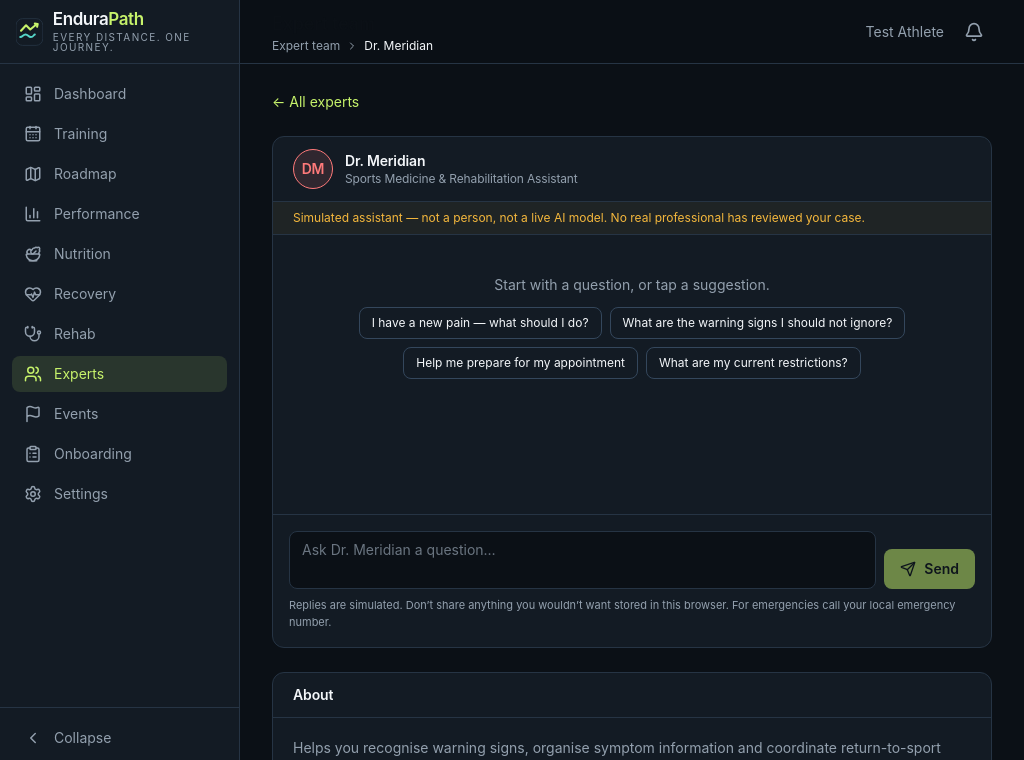
safety workflows › labels every persona reply as simulated and does not clear the athlete to return to sport
Expected: the text "No real professional has reviewed your case" is shown, [607,210,865,225]
Type "Can you clear me to return to running?" into the text box.
click(583, 560); type("Can you clear me to return to running?")  # box [289,531,876,589]
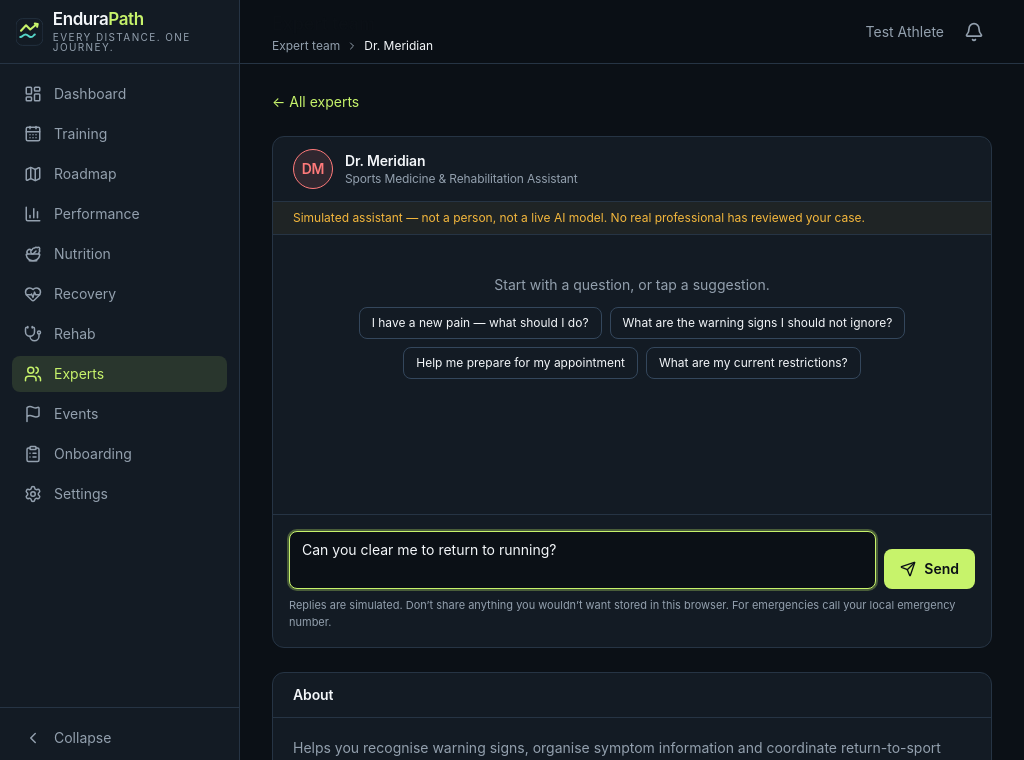
Click the button with aria-label "Send message".
click(930, 569)  # box [884,549,975,589]
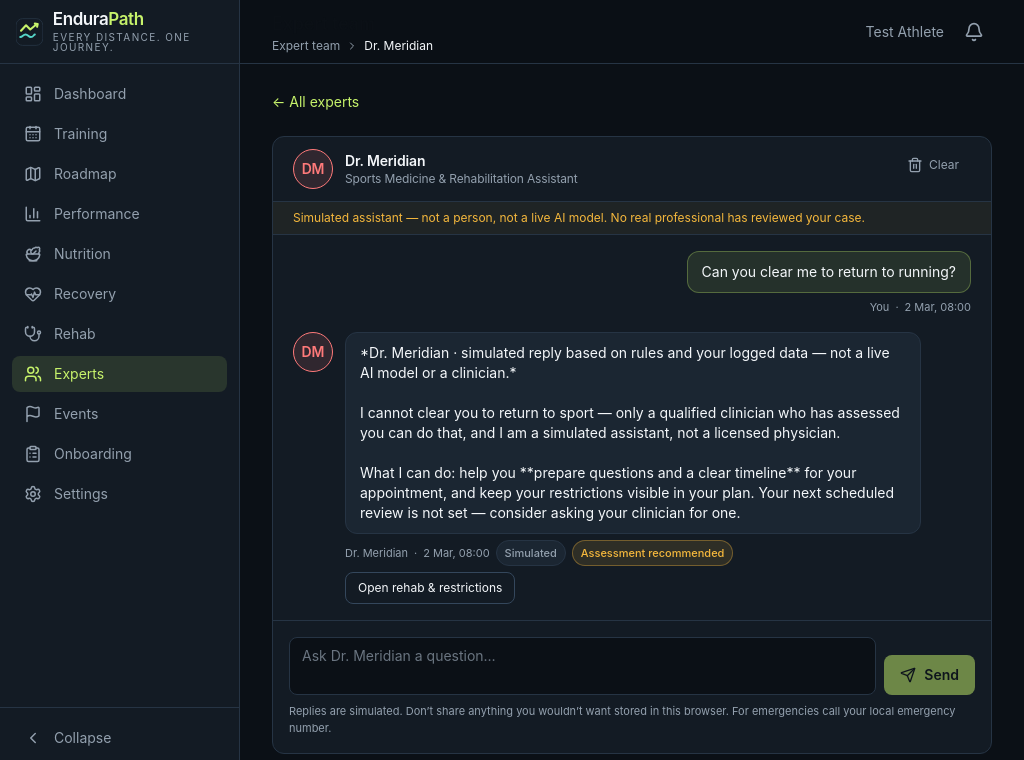
Expected: the text "cannot clear you to return to sport" is shown, [360,344,904,521]
Expected: the text "Simulated" is shown, [496,540,566,566]
